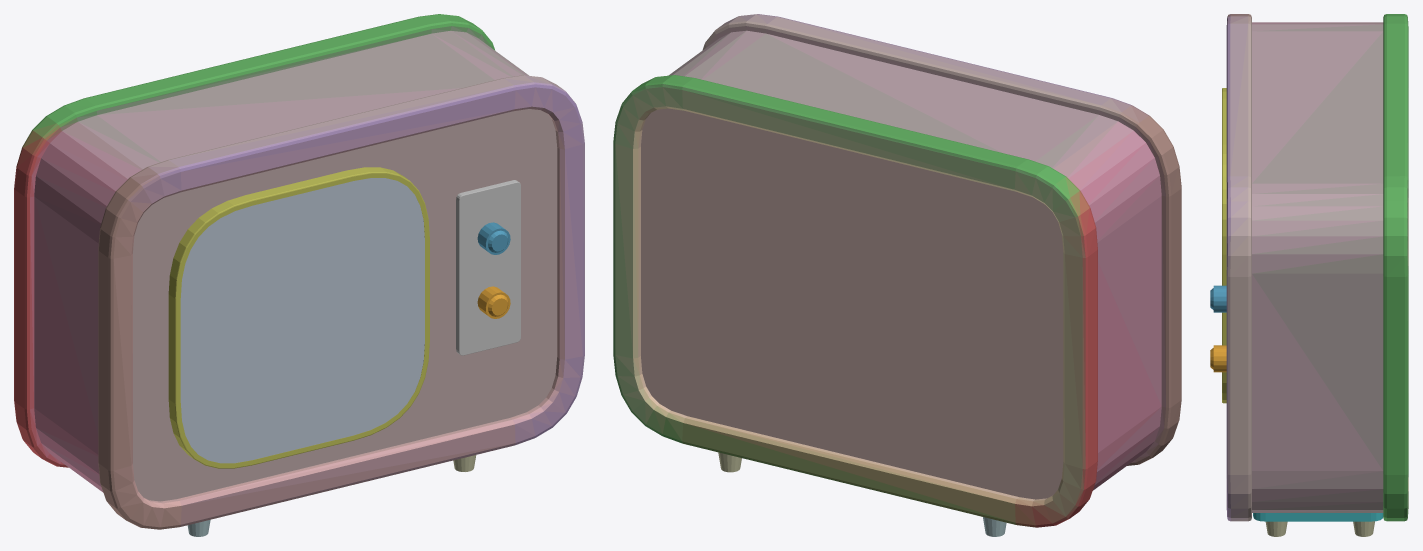
3 views of the same model, side by side, from view 1: azimuth 30°, elevation 25°; view 2: azimuth 150°, elevation 25°; view 3: azimuth 270°, elevation 25° (orthographic). The views are drawn at different scales.
Visible parts, largest first — view 1: world; view 2: world; view 3: world.
Boxes of the visible parts, bbox=[...] form: world: bbox=[14, 14, 584, 536]; world: bbox=[613, 14, 1181, 536]; world: bbox=[1210, 14, 1408, 536].
Size of the model in its own units: 1.8 by 1.43 by 0.6954.
